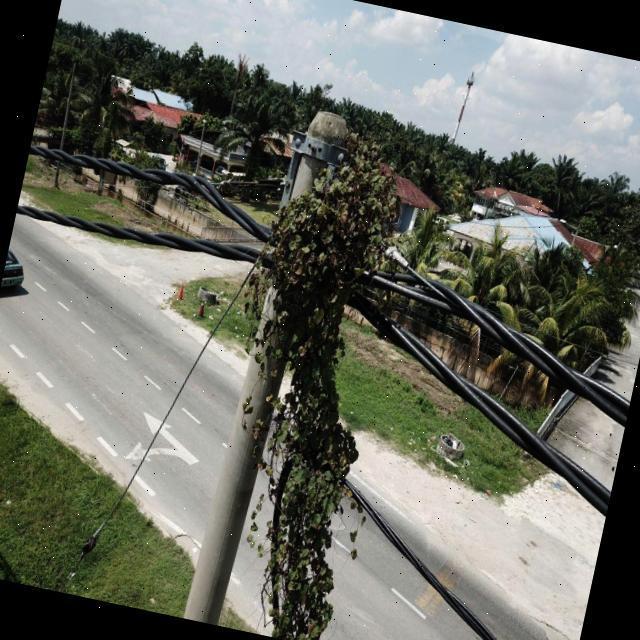critical vegetation: (169, 125, 440, 640)
